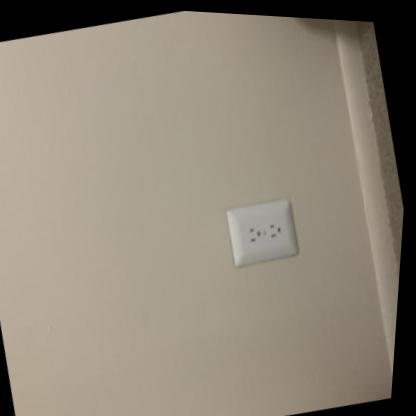OUTLET: (221, 191, 305, 273)
